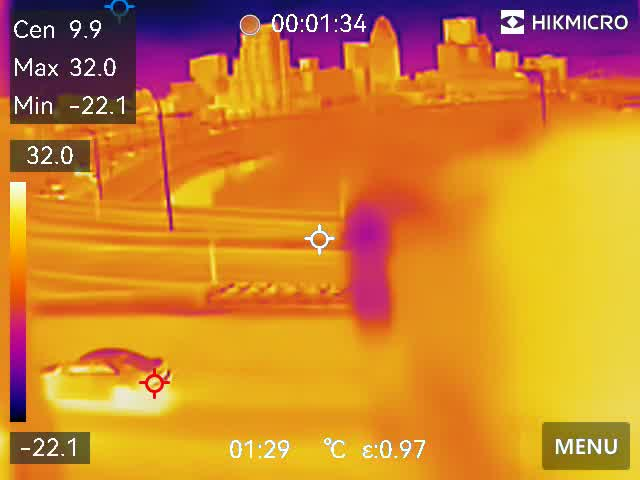smallCar: (34, 345, 172, 400)
